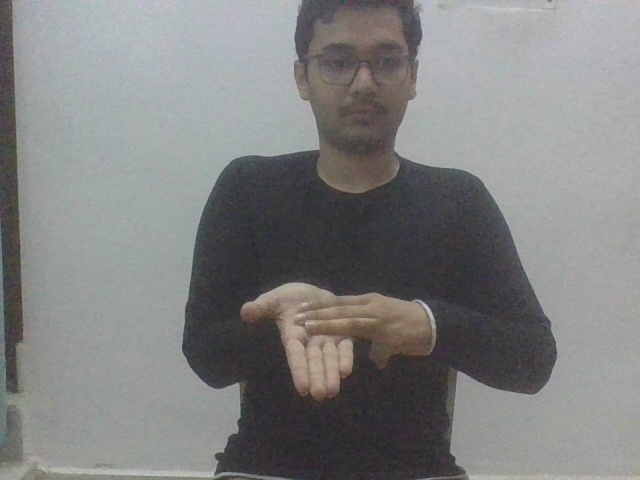M: (233, 277, 438, 404)
